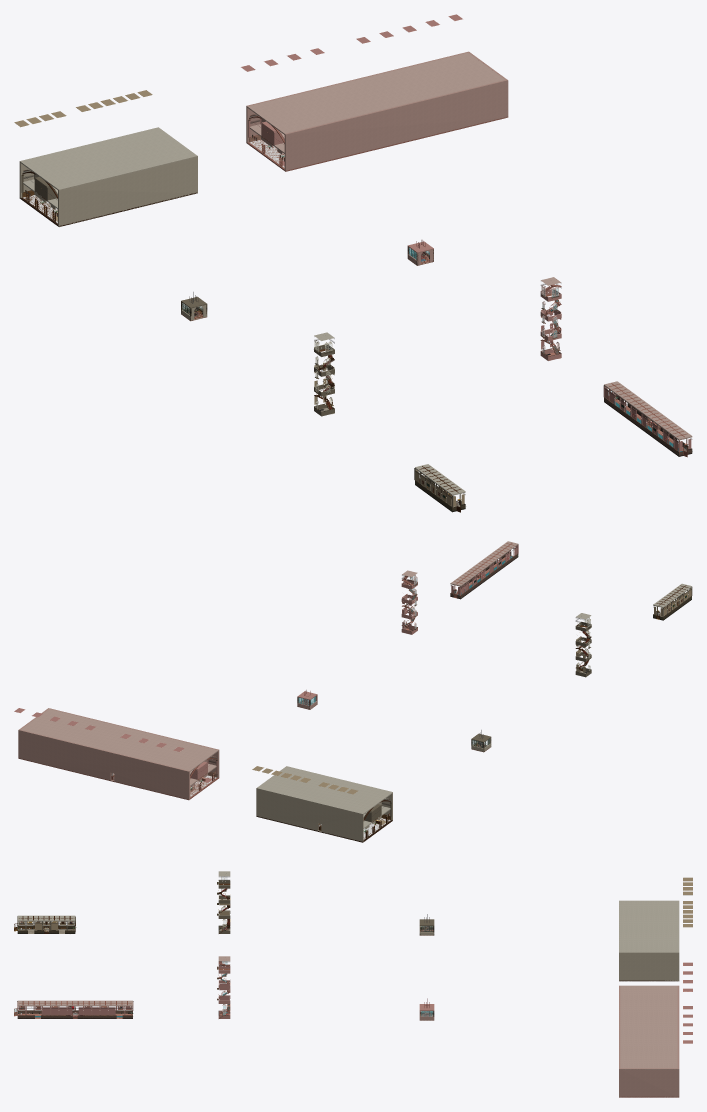
Rendered from tower-base-interiors.glb.
The picture shows the model from 3 angles, top to bottom: view 1: azimuth 30°, elevation 25°; view 2: azimuth 150°, elevation 25°; view 3: azimuth 270°, elevation 25°; orthographic projection. The views are drawn at different scales.
Visible parts, largest first — view 1: cinema_dream__shell, cinema__shell, hall_dream__walls, hall__walls, cinema__walls, stair__walls, stair_dream__walls, cinema__foyer, cinema_dream__walls; view 2: cinema_dream__shell, cinema__shell, hall_dream__walls, hall__walls, cinema__walls, stair__walls, stair_dream__walls, cinema_dream__walls, cinema__foyer; view 3: cinema_dream__shell, cinema__shell, hall_dream__walls, hall__walls, stair__walls, hall_dream__shell_finish, stair_dream__walls, cinema__walls, hall_dream__var_pressed_ceiling.
Part boxes in pixels (<box>): cinema_dream__shell: <box>246,51,508,171</box>; cinema__shell: <box>19,127,197,226</box>; hall_dream__walls: <box>603,381,692,456</box>; hall__walls: <box>414,464,465,512</box>; cinema__walls: <box>14,90,152,221</box>; stair__walls: <box>314,336,334,416</box>; stair_dream__walls: <box>540,284,561,360</box>; cinema__foyer: <box>23,174,57,221</box>; cinema_dream__walls: <box>241,14,462,166</box>; cinema_dream__shell: <box>18,708,219,800</box>; cinema__shell: <box>256,766,392,842</box>; hall_dream__walls: <box>450,541,518,599</box>; hall__walls: <box>653,583,692,620</box>; cinema__walls: <box>252,766,391,830</box>; stair__walls: <box>575,617,591,677</box>; stair_dream__walls: <box>401,575,417,634</box>; cinema_dream__walls: <box>14,708,217,782</box>; cinema__foyer: <box>363,802,390,838</box>; cinema_dream__shell: <box>619,985,679,1097</box>; cinema__shell: <box>619,900,679,981</box>; hall_dream__walls: <box>17,1000,133,1018</box>; hall__walls: <box>17,915,75,933</box>; stair__walls: <box>218,876,230,933</box>; hall_dream__shell_finish: <box>18,1001,132,1018</box>; stair_dream__walls: <box>218,961,230,1018</box>; cinema__walls: <box>683,877,692,927</box>; hall_dream__var_pressed_ceiling: <box>19,1001,131,1004</box>.
Bounding box in the file's own units: 119 × 19.92 × 203.
Materials: 101 (45 with a texture image).
